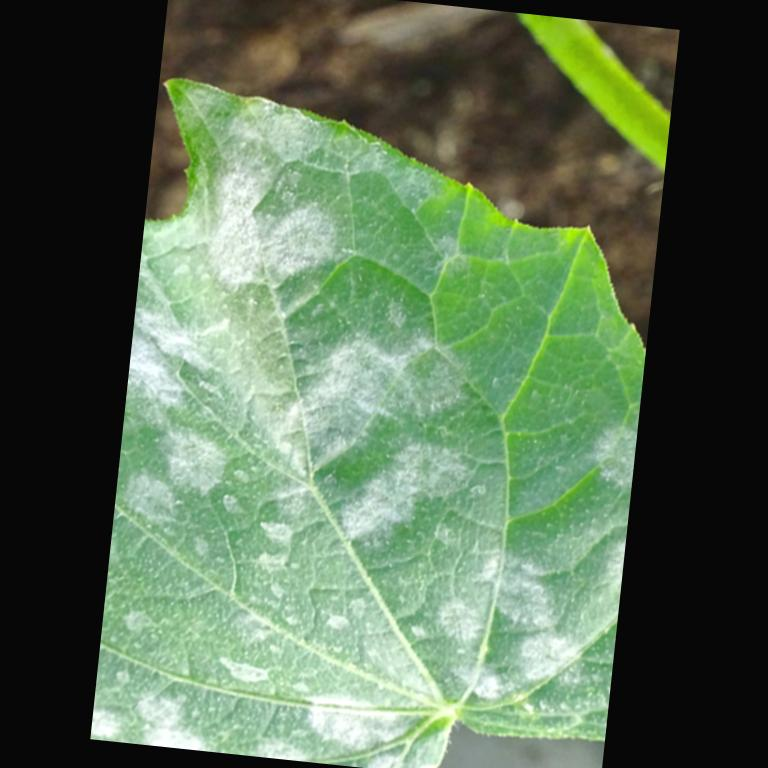powdery-mildew: (142, 228, 564, 662)
